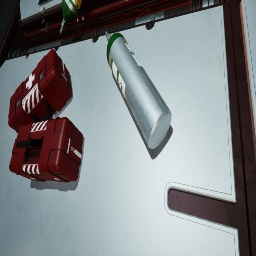0: (105, 31, 172, 149), (60, 0, 83, 34)
FirstAidBox ,: (8, 49, 72, 133), (9, 117, 83, 182)
